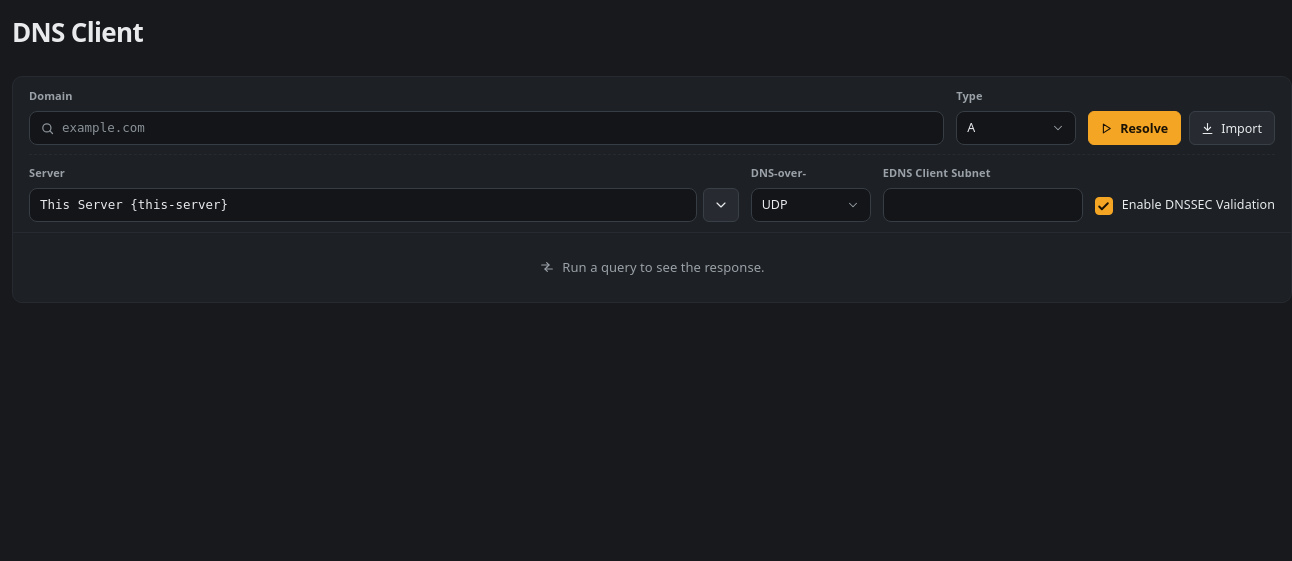
Scenario: DNS Client: the cards › an NXDOMAIN: the code, and zero answers drawn as 0
Type "doesnotexist-zzq12345.com" into the field labelled "Domain".
click(487, 128); type("doesnotexist-zzq12345.com")  # box [29,111,944,145]
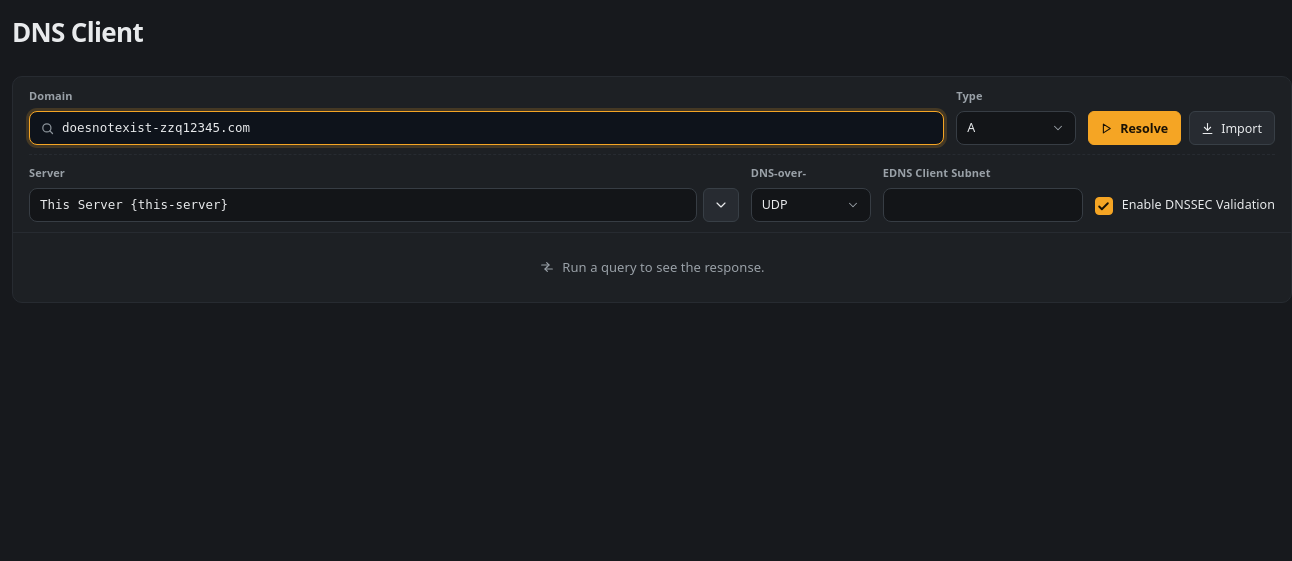
Click the button "Resolve".
click(1135, 128)  # box [1088,111,1181,145]
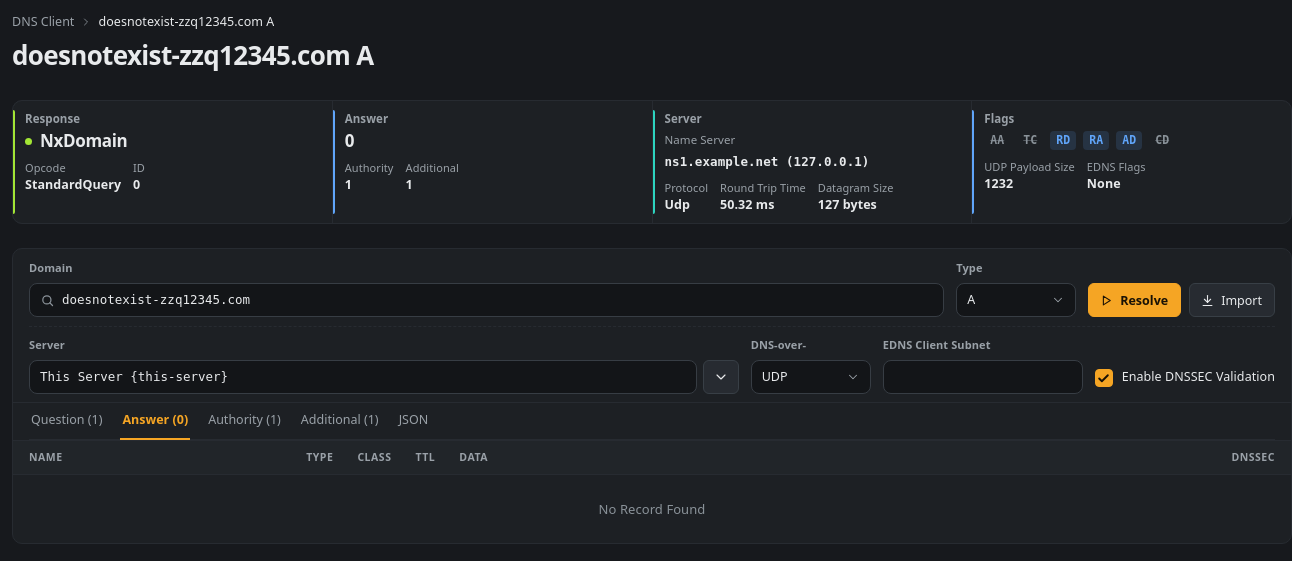
Expected: the text "NxDomain" is shown, [40,132,127,151]
Expected: the 1st text "0" is shown, [345,130,354,152]
Expected: the 1st text "1" is shown, [345,176,352,193]
